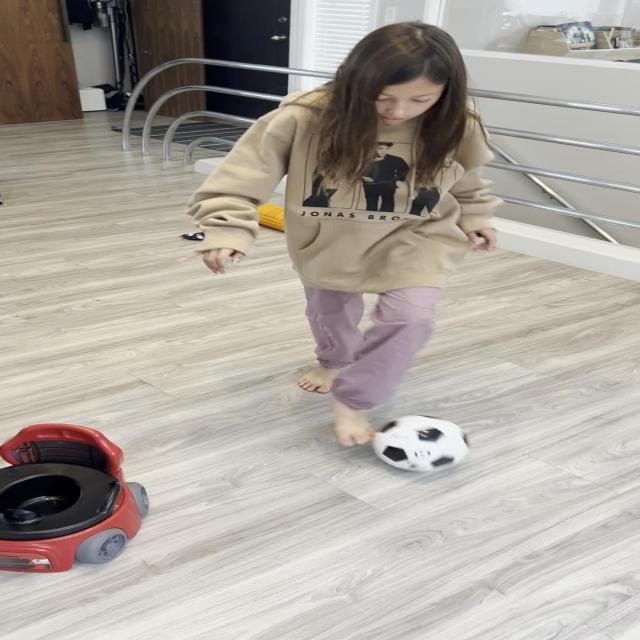Soccer Ball: (372, 416, 473, 472)
